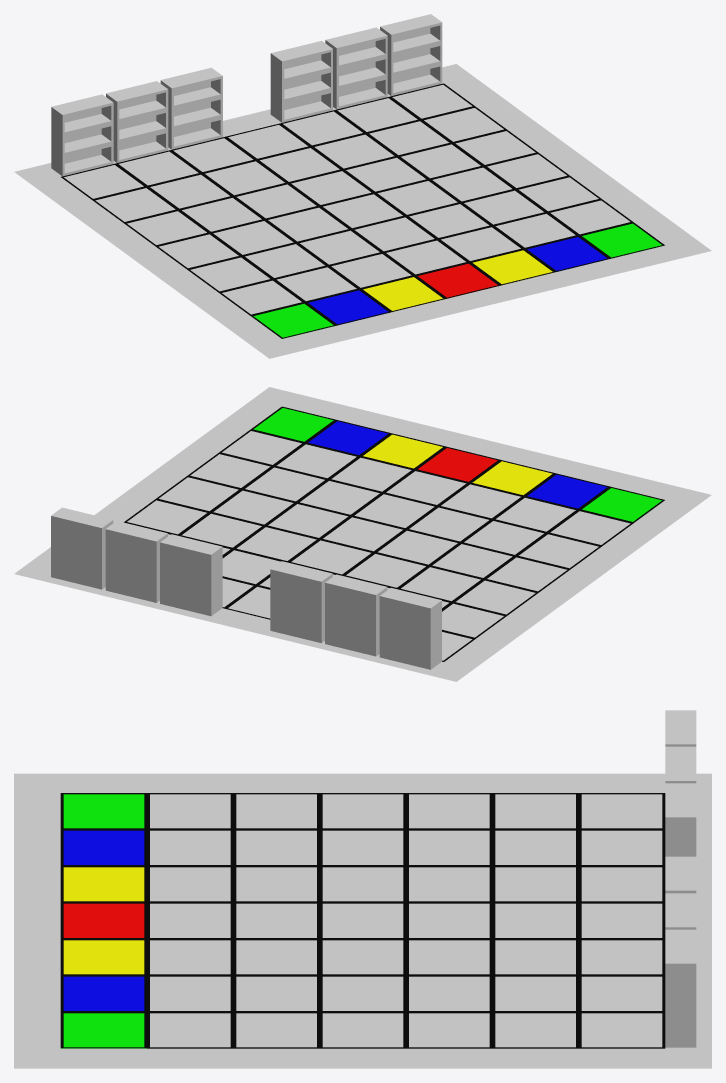
File: arena.dae
The picture shows the model from 3 angles, top to bottom: view 1: azimuth 30°, elevation 25°; view 2: azimuth 150°, elevation 25°; view 3: azimuth 270°, elevation 25°; orthographic projection. The views are drawn at different scales.
Visible parts, largest first — view 1: Plane, Cube, Cube.002, Cube.001, Cube.003; view 2: Plane, Cube.002, Cube.001, Cube, Cube.003; view 3: Plane, Cube, Cube.003, Cube.002, Cube.001.
Part boxes in pixels (x1,y1,x2,y2): Plane: (14,64,711,358); Cube: (61,83,664,338); Cube.002: (270,14,442,122); Cube.001: (51,67,222,176); Cube.003: (253,223,661,337); Plane: (14,387,711,681); Cube.002: (51,507,222,616); Cube.001: (270,561,441,669); Cube: (124,406,664,661); Cube.003: (253,408,661,521); Plane: (14,773,711,1068); Cube: (60,793,665,1048); Cube.003: (61,794,146,1048); Cube.002: (665,856,696,1047); Cube.001: (665,710,696,856).
Size of the model in its own units: 2.6 by 2.6 by 0.346.
